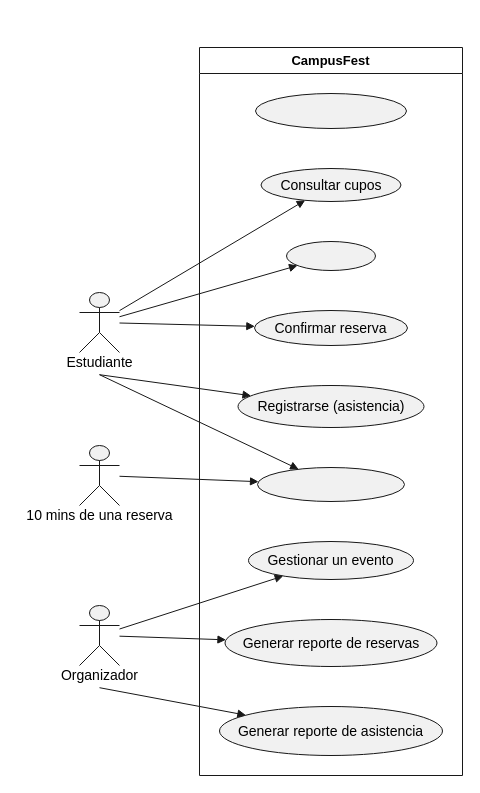
Some shapes in this 480 by 793 pixel diagram are drawn without their labels. Here are the shapes that lost their labels. From the top down, the centre of each, then its label:
At (x=330, y=110): "Consultar eventos".
At (x=331, y=255): "Reservar".
At (x=330, y=484): "Cancelar reserva".
